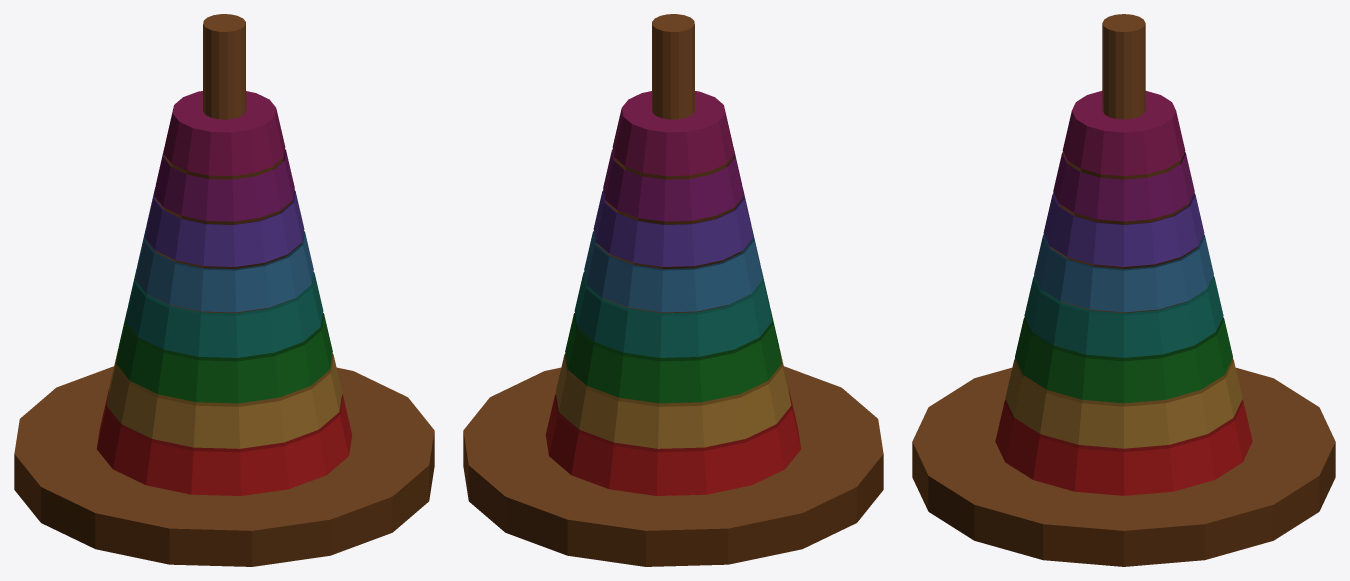
File: Toy3.fbx
3 renders of one model, left to right at view 1: azimuth 30°, elevation 25°; view 2: azimuth 150°, elevation 25°; view 3: azimuth 270°, elevation 25°, orthographic.
Visible parts, largest first — view 1: Prop_Toy_01; view 2: Prop_Toy_01; view 3: Prop_Toy_01.
Part boxes in pixels (x1,y1,x2,y2): Prop_Toy_01: (14, 14, 434, 566); Prop_Toy_01: (463, 14, 883, 566); Prop_Toy_01: (912, 14, 1335, 566).
Size of the model in its own units: 39.35 by 46.63 by 39.35.
Materials: 1 (1 with a texture image).
